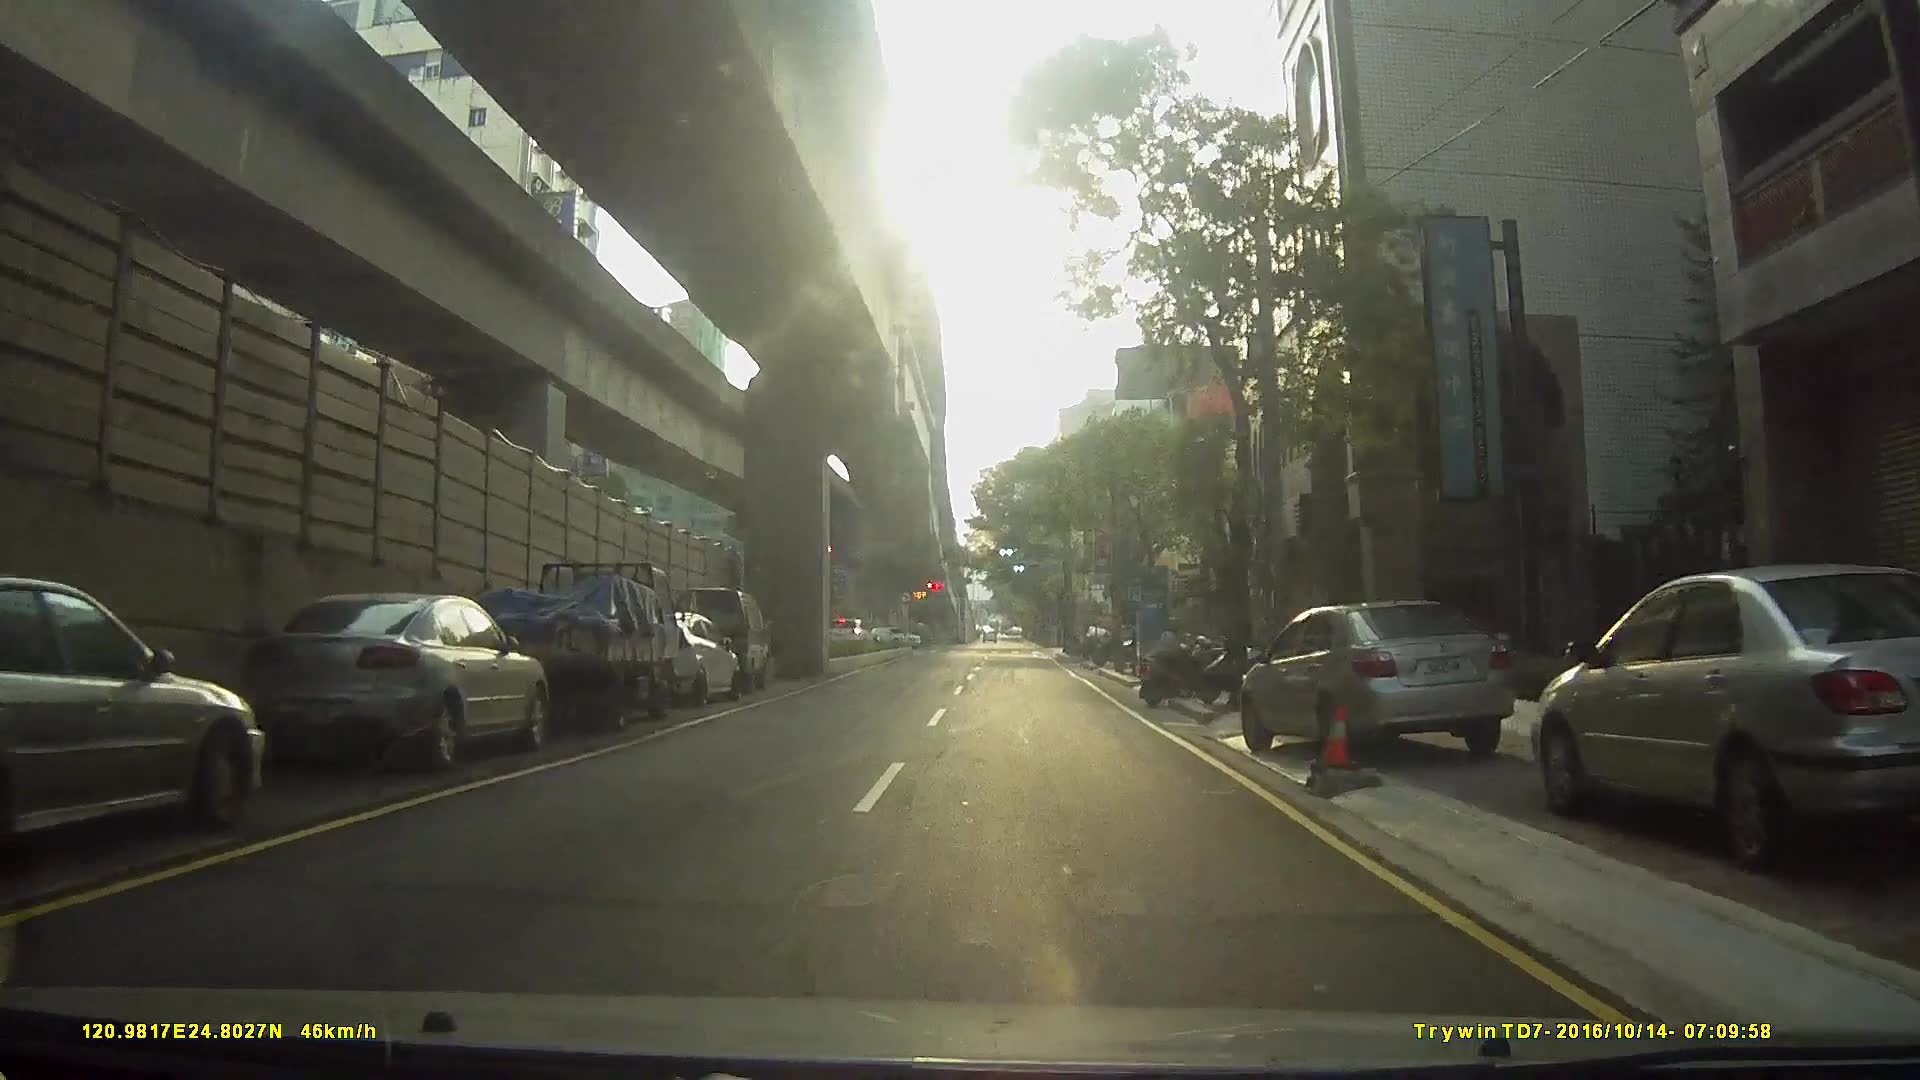rider: (1139, 620, 1220, 710)
vehicle: (1517, 554, 1915, 894), (1, 576, 271, 860), (231, 587, 553, 780), (1233, 596, 1541, 767), (460, 560, 702, 730), (611, 607, 740, 708), (821, 614, 875, 650)
